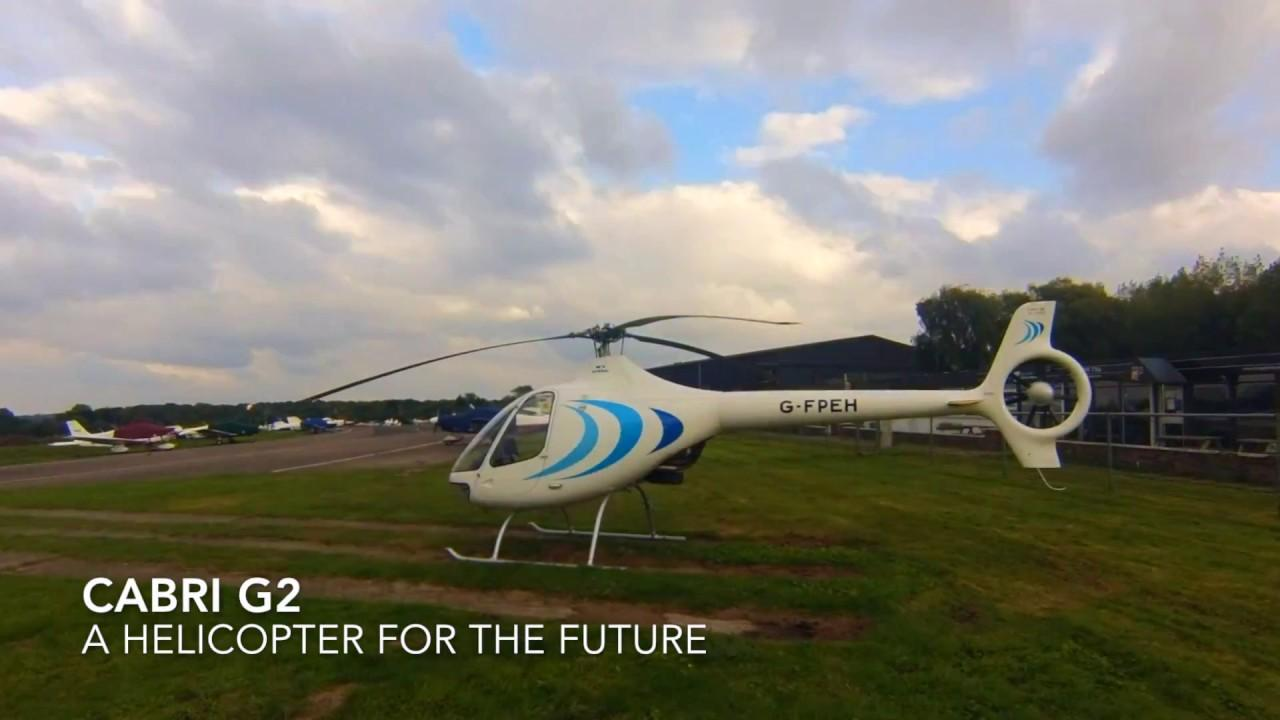Helicopter: (269, 287, 1120, 583)
